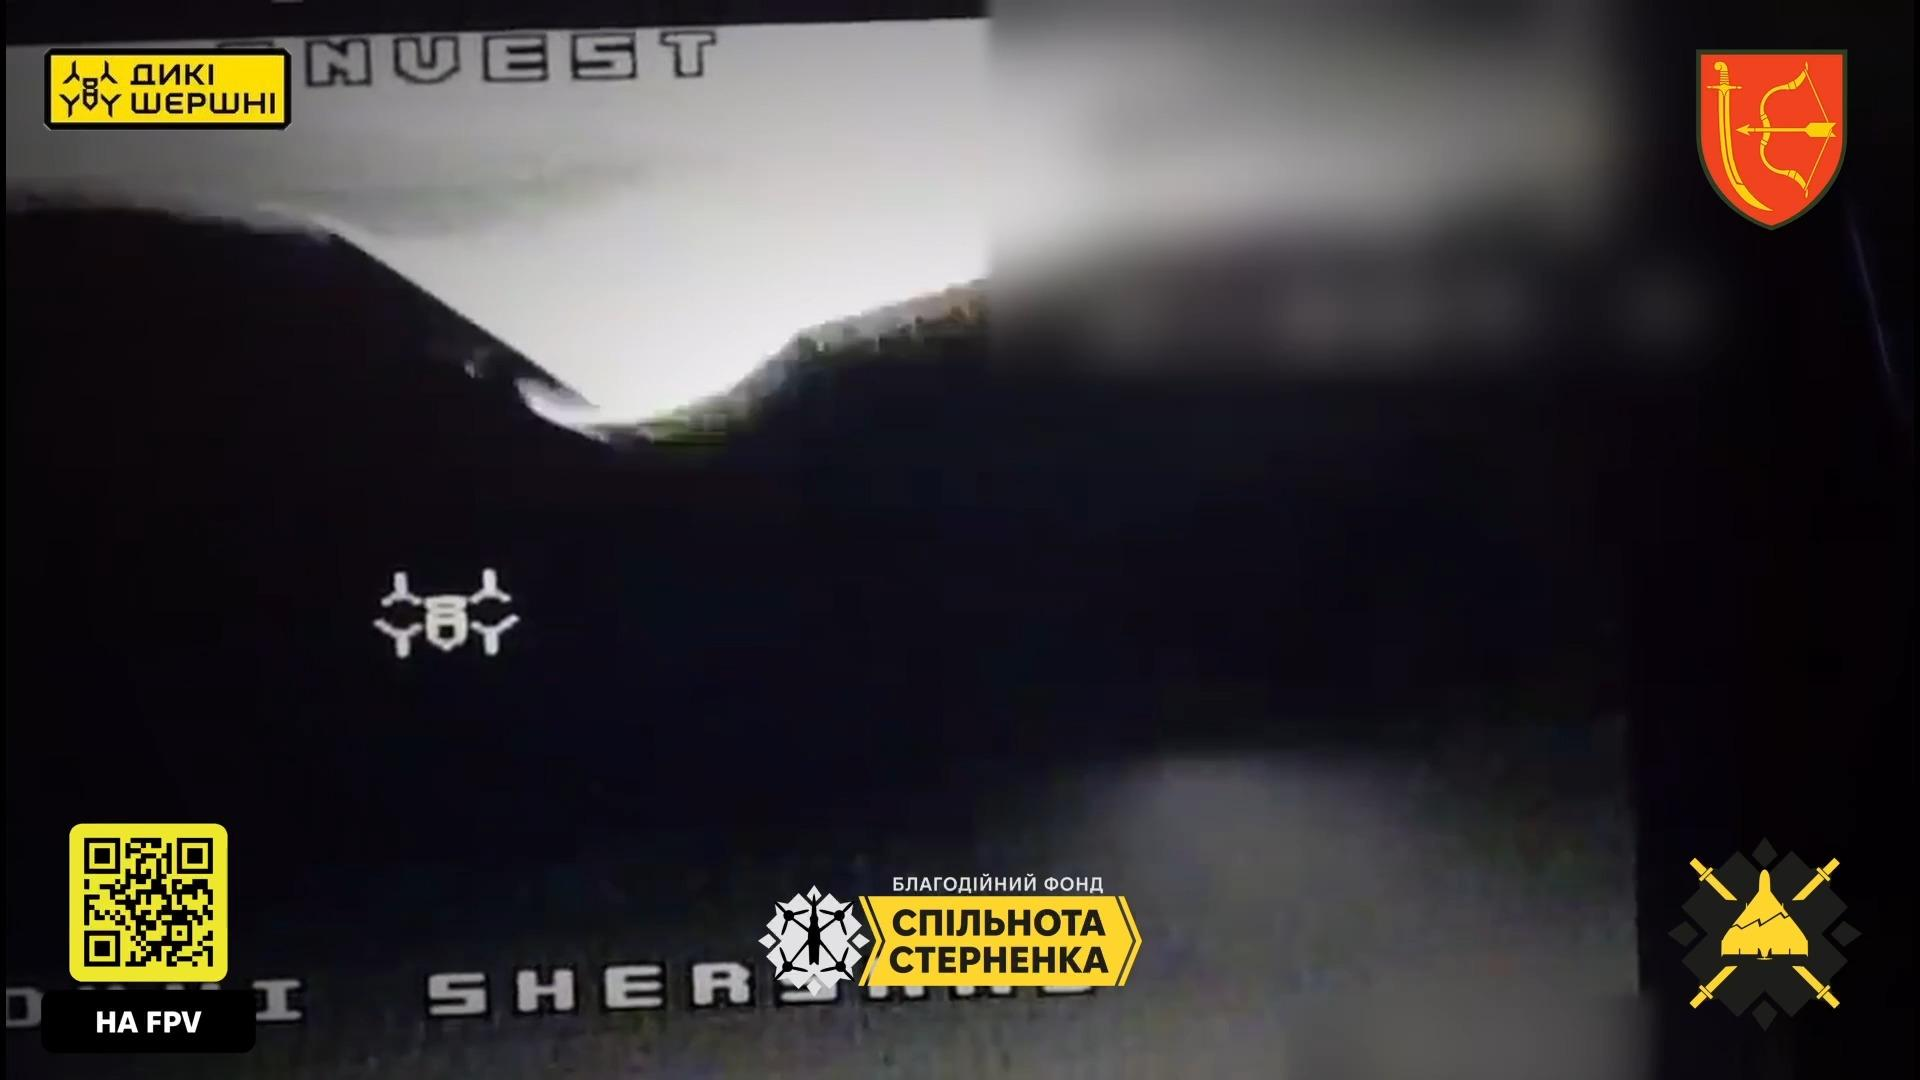Gerbera: (0, 33, 1613, 442)
